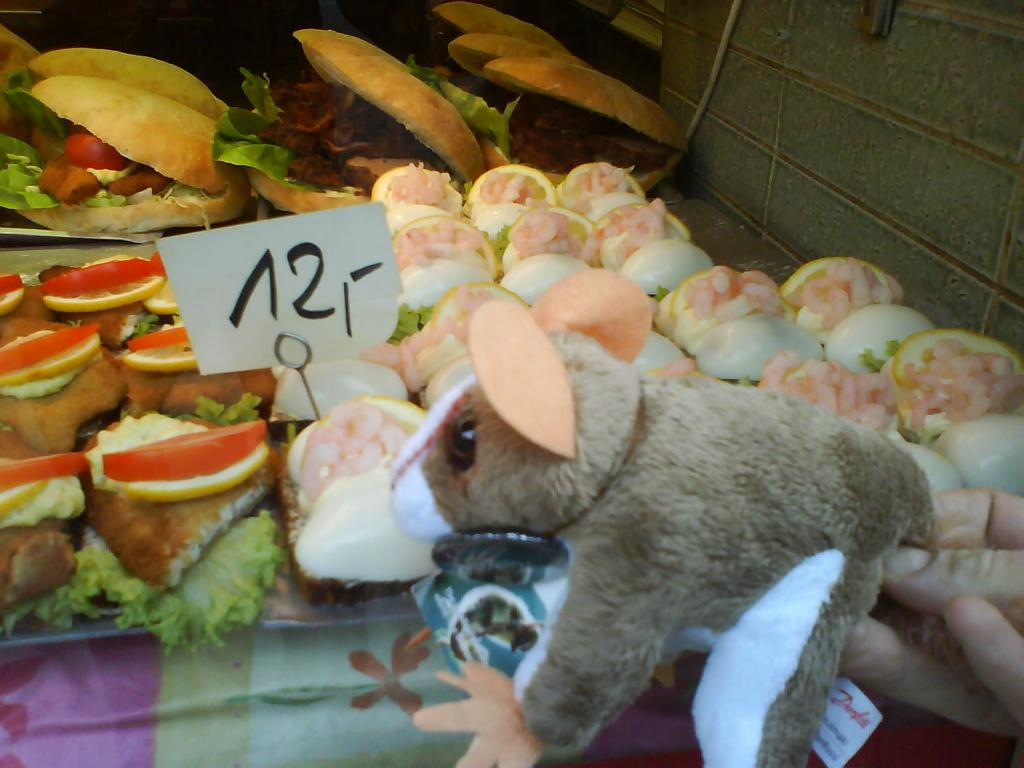Hamburger: (0, 254, 290, 652), (213, 32, 484, 214), (0, 74, 250, 236), (481, 66, 686, 188), (28, 50, 230, 126), (447, 37, 583, 75), (435, 0, 554, 42)
